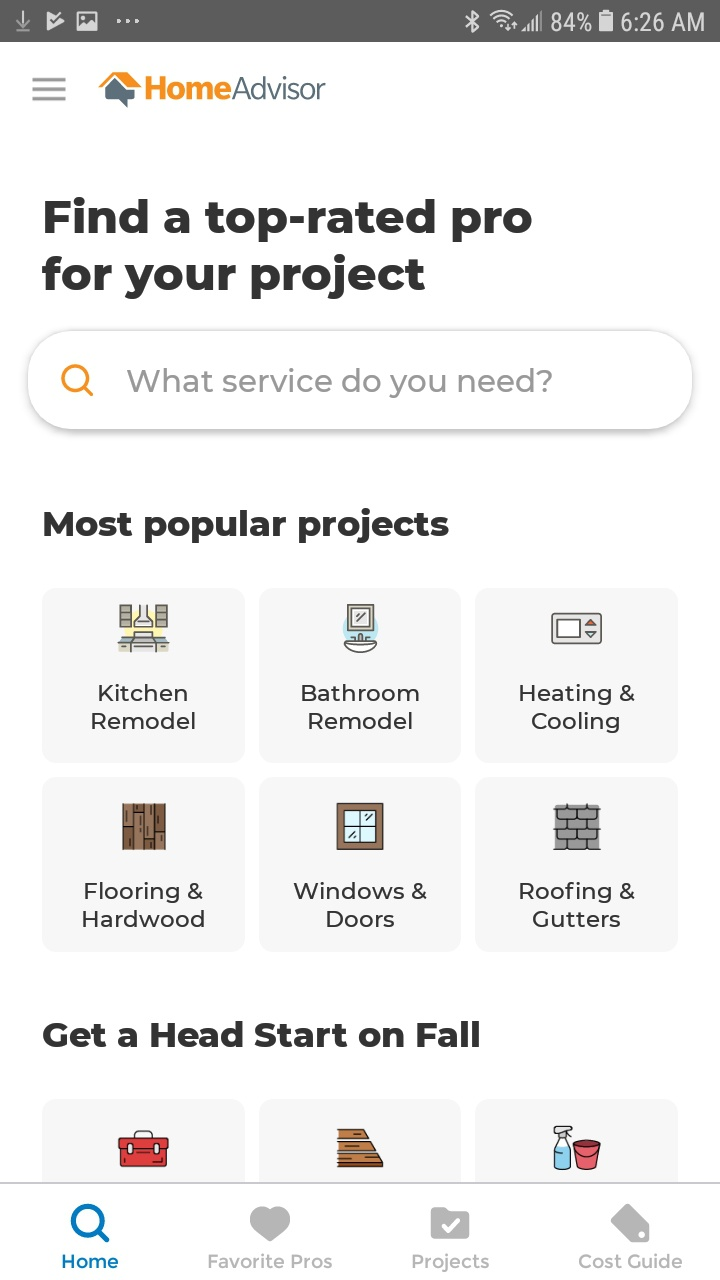EditText: (28, 331, 693, 431)
Icon: (610, 1203, 650, 1243), (71, 1203, 111, 1243), (250, 1205, 291, 1242), (430, 1207, 470, 1240), (62, 364, 95, 397), (32, 77, 67, 103)
Image: (117, 604, 171, 654), (336, 802, 385, 851), (553, 803, 602, 851), (553, 1124, 602, 1171), (122, 802, 167, 851), (118, 1129, 170, 1168), (336, 1127, 385, 1168), (342, 603, 379, 654), (551, 611, 603, 645), (98, 72, 143, 109)
Text: (43, 198, 533, 301), (44, 508, 450, 544), (127, 368, 553, 399), (43, 1020, 480, 1048), (293, 881, 427, 928), (520, 683, 636, 734), (83, 881, 206, 928), (302, 683, 420, 730), (520, 881, 636, 928), (92, 683, 197, 730), (146, 77, 327, 102), (208, 1253, 333, 1269), (579, 1252, 683, 1269), (412, 1253, 490, 1273), (62, 1254, 119, 1269)
UpperTaskBar: (1, 1, 720, 43)
